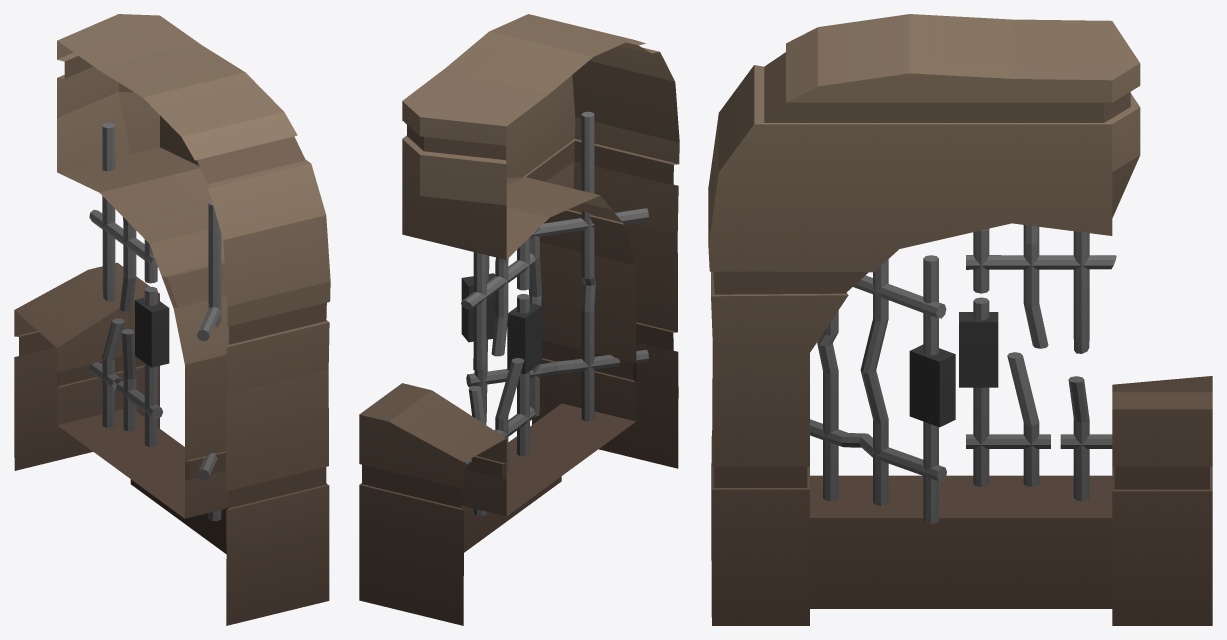
Rendered from Puerta con reja.fbx.
The picture shows the model from 3 angles, left to right: view 1: azimuth 30°, elevation 25°; view 2: azimuth 150°, elevation 25°; view 3: azimuth 270°, elevation 25°; orthographic projection. The views are drawn at different scales.
Visible parts, largest first — view 1: Puerta sin rejas, Cylinder.002, Cube.004; view 2: Puerta sin rejas, Cylinder.002, Cube.004; view 3: Puerta sin rejas, Cylinder.002, Cube.004.
Part boxes in pixels (bbox=[...]): Puerta sin rejas: bbox=[14, 14, 330, 625]; Cylinder.002: bbox=[89, 122, 222, 521]; Cube.004: bbox=[135, 298, 169, 367]; Puerta sin rejas: bbox=[359, 14, 679, 625]; Cylinder.002: bbox=[461, 111, 648, 515]; Cube.004: bbox=[461, 273, 542, 374]; Puerta sin rejas: bbox=[708, 14, 1212, 625]; Cylinder.002: bbox=[810, 225, 1116, 523]; Cube.004: bbox=[909, 312, 998, 427].
Bounding box in the file's own units: 320 × 1215 × 1005.
